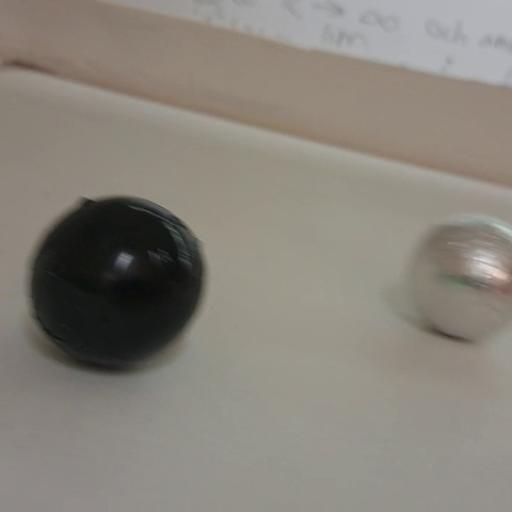alive: (402, 212, 512, 346)
dead: (26, 194, 204, 371)
